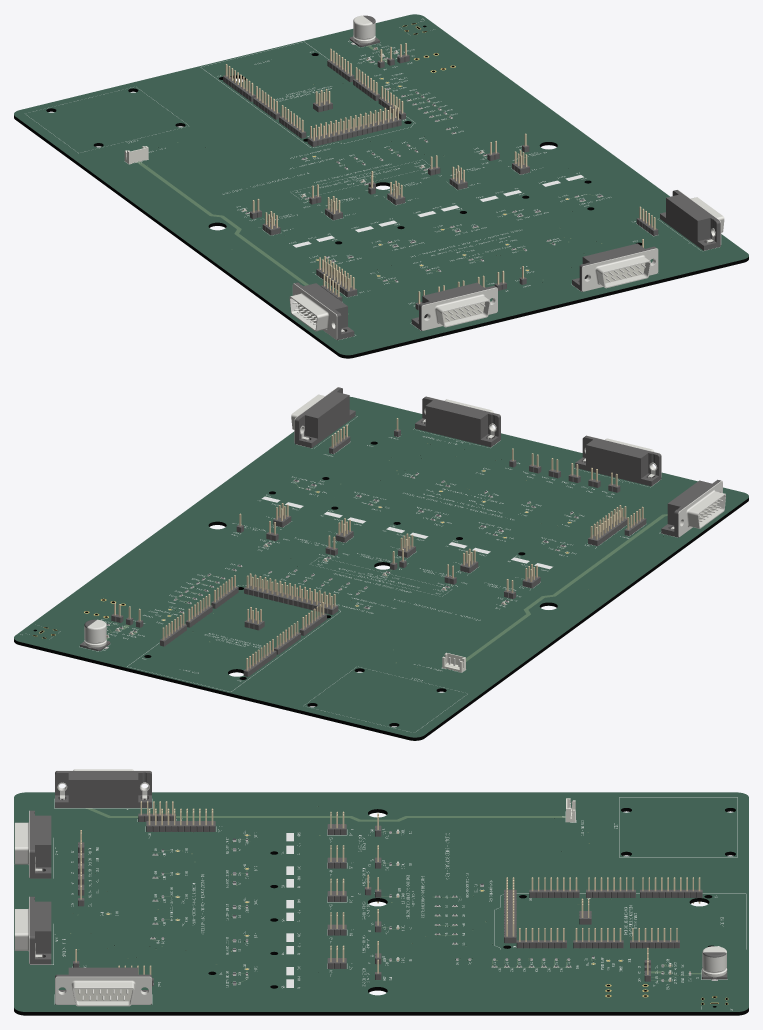
Rendered from backplane.glb.
The picture shows the model from 3 angles, top to bottom: view 1: azimuth 30°, elevation 25°; view 2: azimuth 150°, elevation 25°; view 3: azimuth 270°, elevation 25°; orthographic projection. The views are drawn at different scales.
Parts seen in each view (by area): view 1: backplane_visual_layers_4, backplane_visual_layers_1, backplane_visual_layers_7, B-J4, A-J3, J5, J1, A1_9_VISUAL, JA1_VISUAL, backplane_visual_layers_2, C1, A1_7_VISUAL; view 2: backplane_visual_layers_4, backplane_visual_layers_1, backplane_visual_layers_7, B-J4, A-J3, J5, J1, A1_9_VISUAL, JA1_VISUAL, backplane_visual_layers_2, C1, A1_7_VISUAL; view 3: backplane_visual_layers_4, backplane_visual_layers_1, backplane_visual_layers_7, J1, J5, A-J3, B-J4, JA1_VISUAL, backplane_visual_layers_2, A1_7_VISUAL, C1, A1_9_VISUAL (+6 smaller).
Part boxes in pixels (x1,y1,x2,y2): backplane_visual_layers_4: (14, 14, 748, 355); backplane_visual_layers_1: (14, 15, 748, 358); backplane_visual_layers_7: (27, 18, 719, 339); B-J4: (572, 243, 658, 291); A-J3: (411, 282, 497, 330); J5: (660, 189, 724, 250); J1: (289, 282, 354, 340); A1_9_VISUAL: (307, 105, 401, 146); JA1_VISUAL: (316, 256, 357, 297); backplane_visual_layers_2: (140, 23, 601, 284); C1: (349, 15, 379, 46); A1_7_VISUAL: (223, 64, 255, 101); backplane_visual_layers_4: (14, 396, 748, 737); backplane_visual_layers_1: (14, 397, 748, 740); backplane_visual_layers_7: (20, 416, 677, 731); B-J4: (415, 396, 500, 447); A-J3: (575, 435, 661, 486); J5: (291, 387, 355, 447); J1: (661, 479, 725, 537); A1_9_VISUAL: (244, 573, 338, 614); JA1_VISUAL: (588, 505, 627, 545); backplane_visual_layers_2: (33, 443, 666, 660); C1: (80, 619, 110, 650); A1_7_VISUAL: (243, 639, 276, 676); backplane_visual_layers_4: (14, 792, 748, 1011); backplane_visual_layers_1: (14, 793, 748, 1015); backplane_visual_layers_7: (30, 797, 746, 1010); J1: (55, 769, 151, 807); J5: (55, 967, 151, 1006); A-J3: (14, 810, 51, 878); B-J4: (14, 896, 51, 964); JA1_VISUAL: (146, 808, 215, 831); backplane_visual_layers_2: (70, 809, 728, 1004); A1_7_VISUAL: (640, 877, 702, 903); C1: (702, 946, 727, 980); A1_9_VISUAL: (504, 877, 516, 943).
Bounding box in the file's own units: 0.21 × 0.0179 × 0.297.
